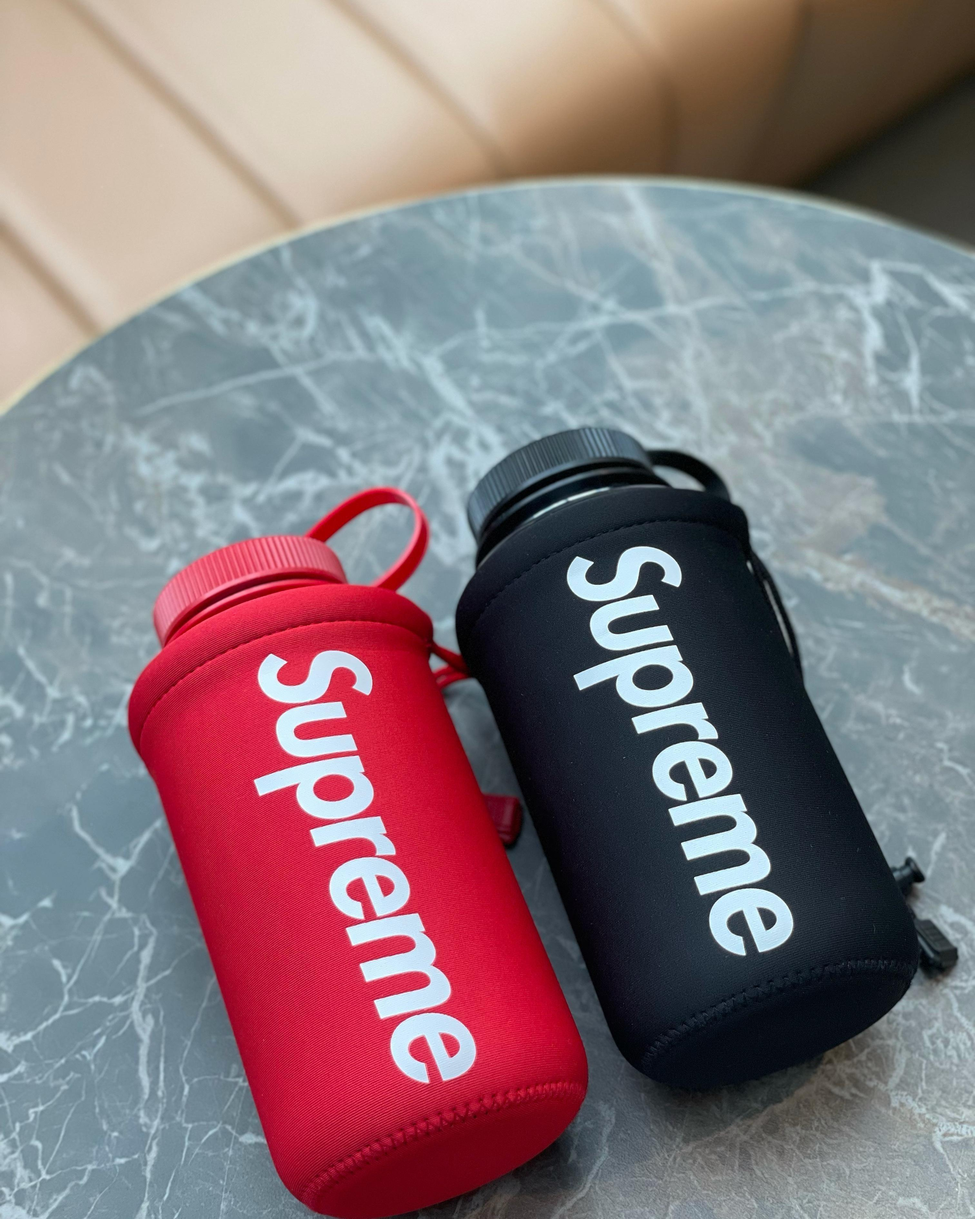gym bottle: (125, 490, 591, 1218), (454, 422, 917, 1092)
